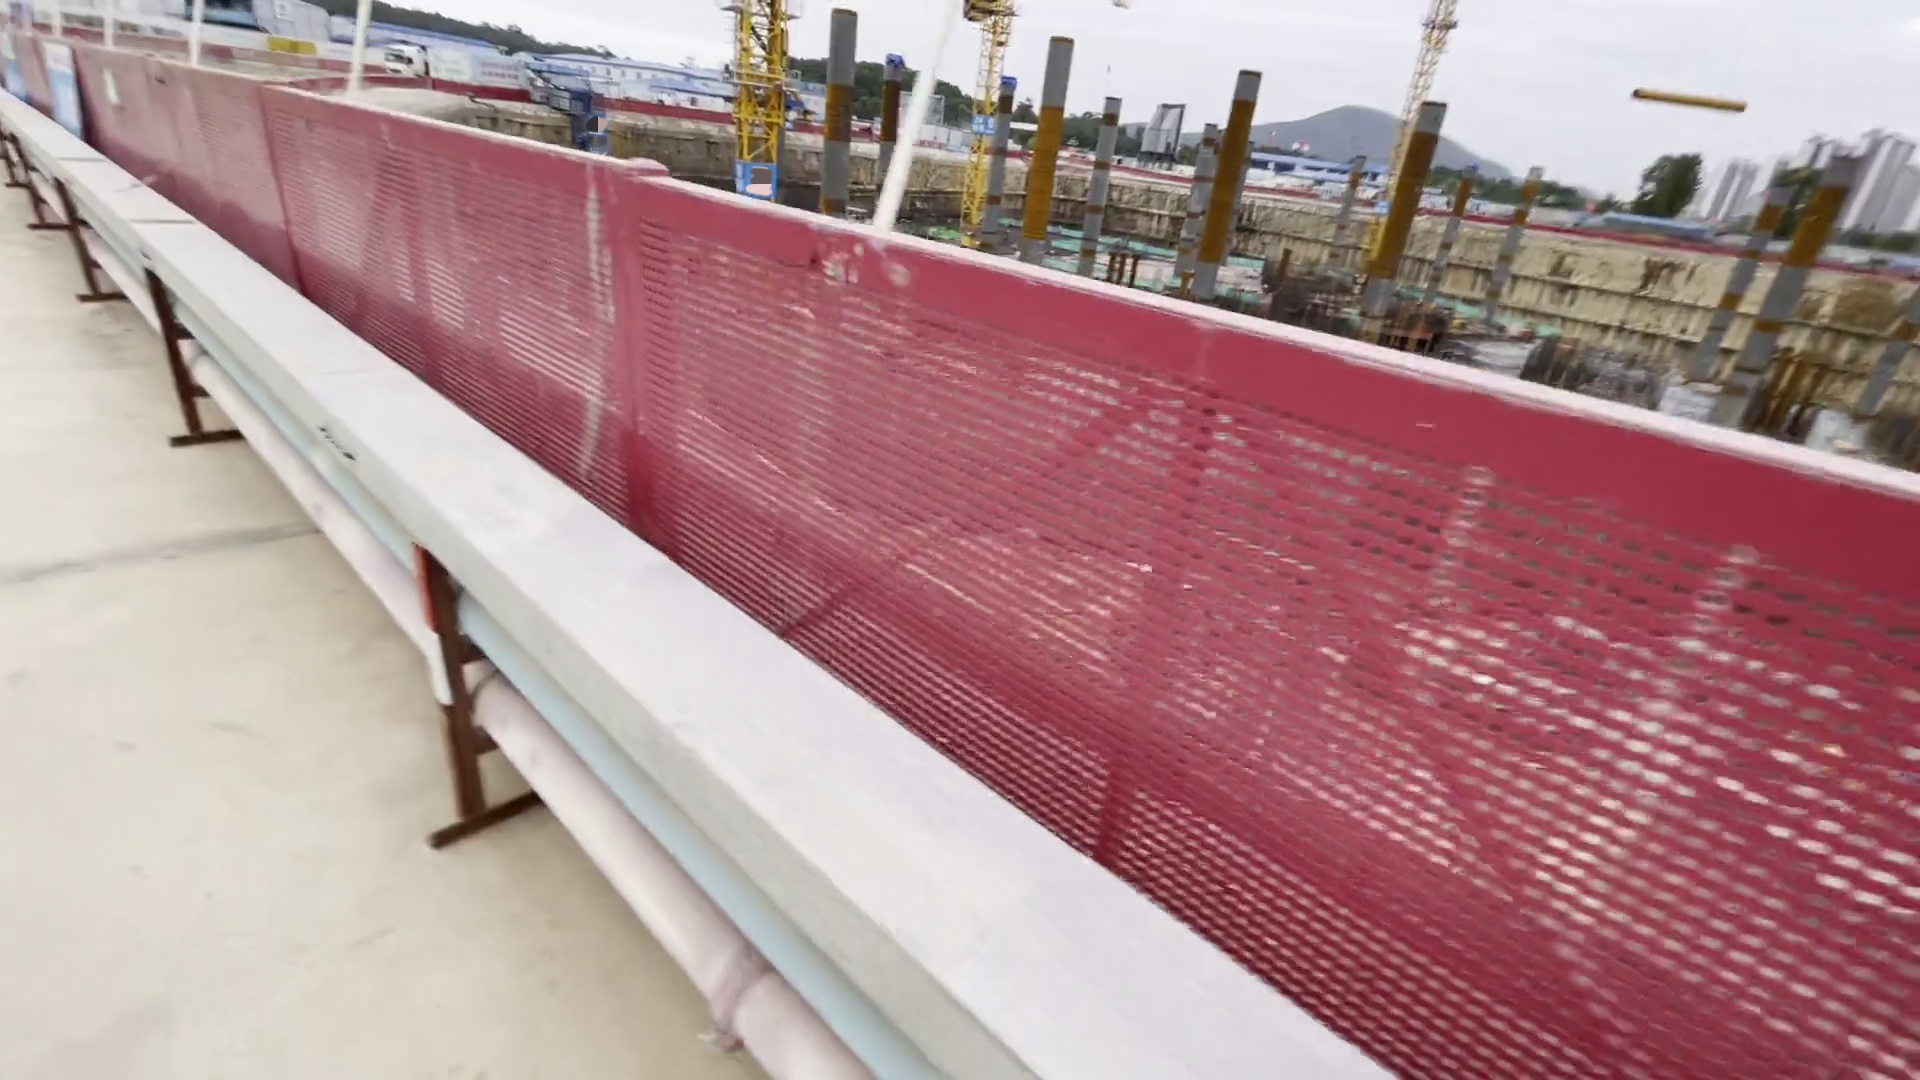fence: (3, 11, 1855, 1059)
